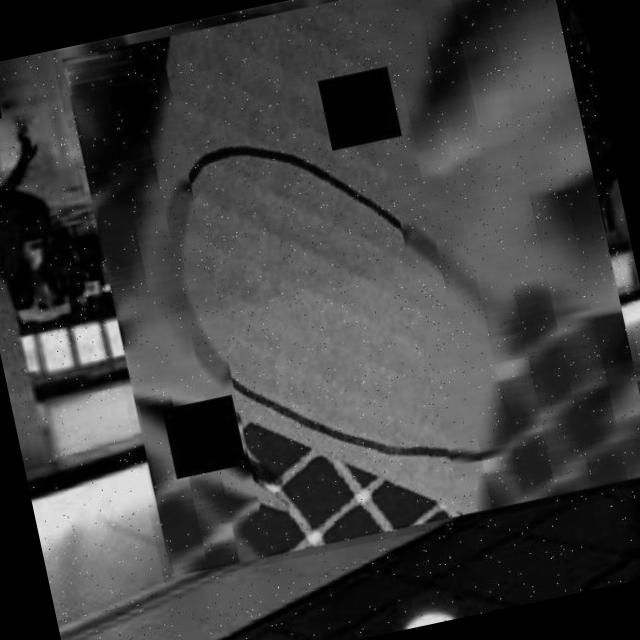box: (51, 0, 640, 585)
